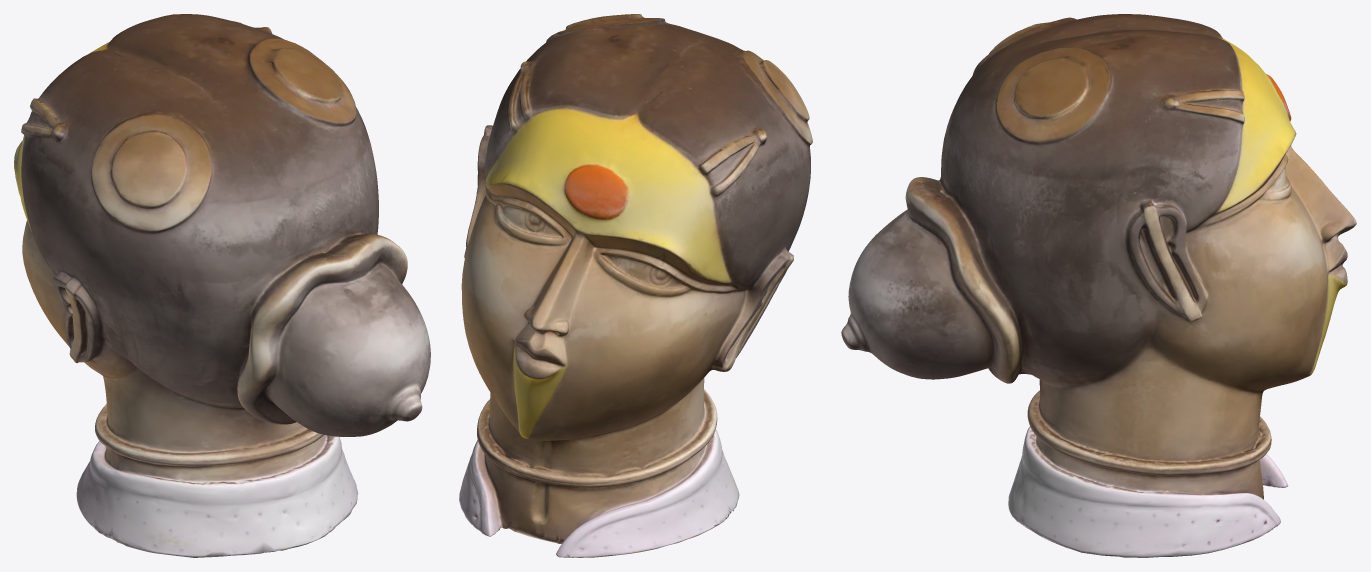
File: thota-dark-green-saree-lady.glb
3 views of the same model, side by side, from view 1: azimuth 30°, elevation 25°; view 2: azimuth 150°, elevation 25°; view 3: azimuth 270°, elevation 25° (orthographic). The views are drawn at different scales.
Visible parts, largest first — view 1: headG_LOW; view 2: headG_LOW; view 3: headG_LOW.
Boxes of the visible parts, box(x1,y1,x2,y2) form: headG_LOW: box(14, 14, 430, 557); headG_LOW: box(459, 14, 812, 557); headG_LOW: box(841, 14, 1356, 557).
Size of the model in its own units: 15.54 by 22.91 by 23.58.
1 material, 1 textured.
